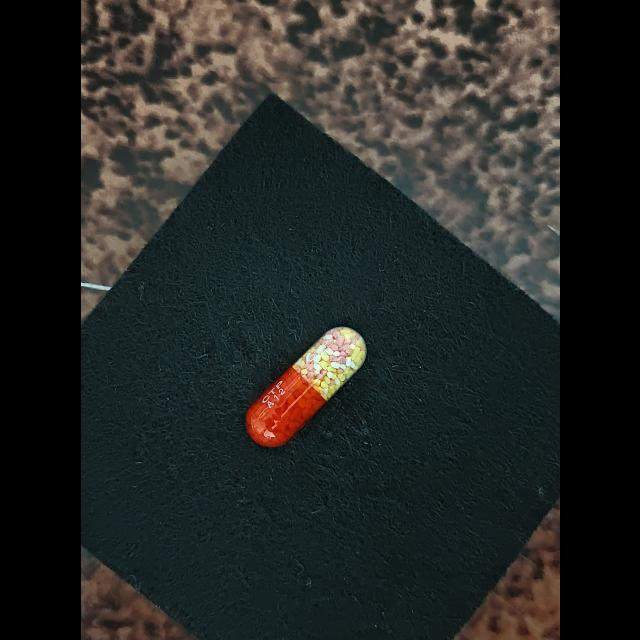Intact Capsule: (245, 326, 366, 447)
